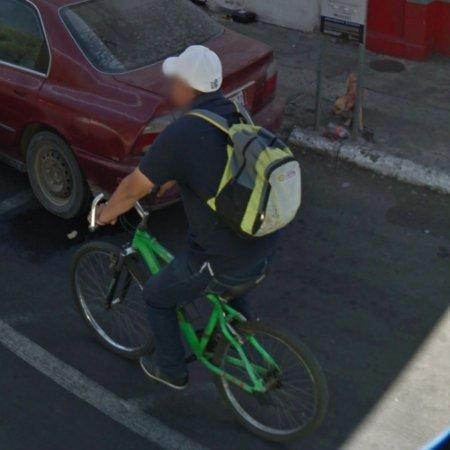bicycles: (178, 277, 328, 442), (72, 204, 174, 360), (72, 205, 174, 360)
